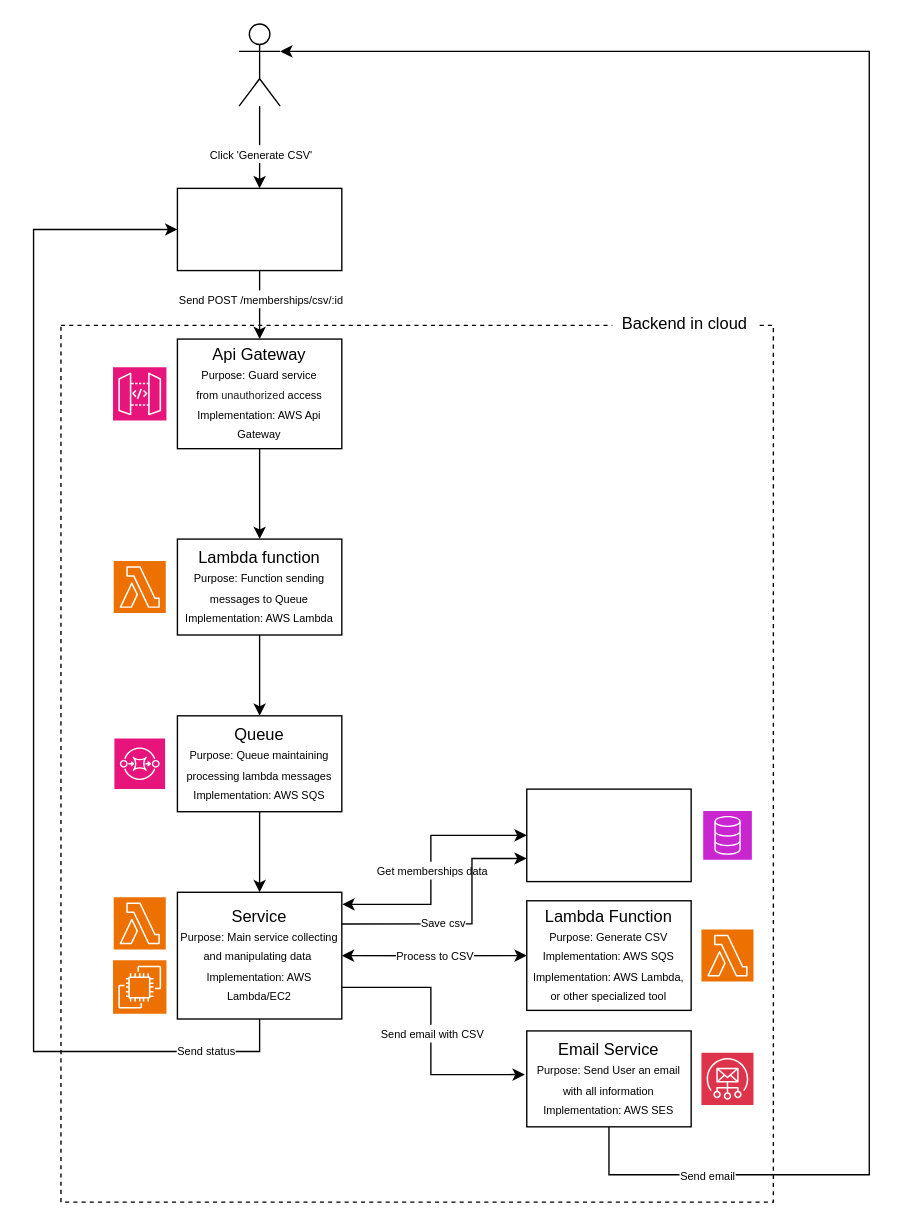
The diagram is 904 pixels wide and 1226 high, and some of its shapes have lost their labels. Here are the shapes that lost their labels. From the top down, the centre of each, then its label:
the point at 259,64: User
the point at 259,229: Frontend Implementation Agnostic
the point at 608,835: Database Main Data Source
